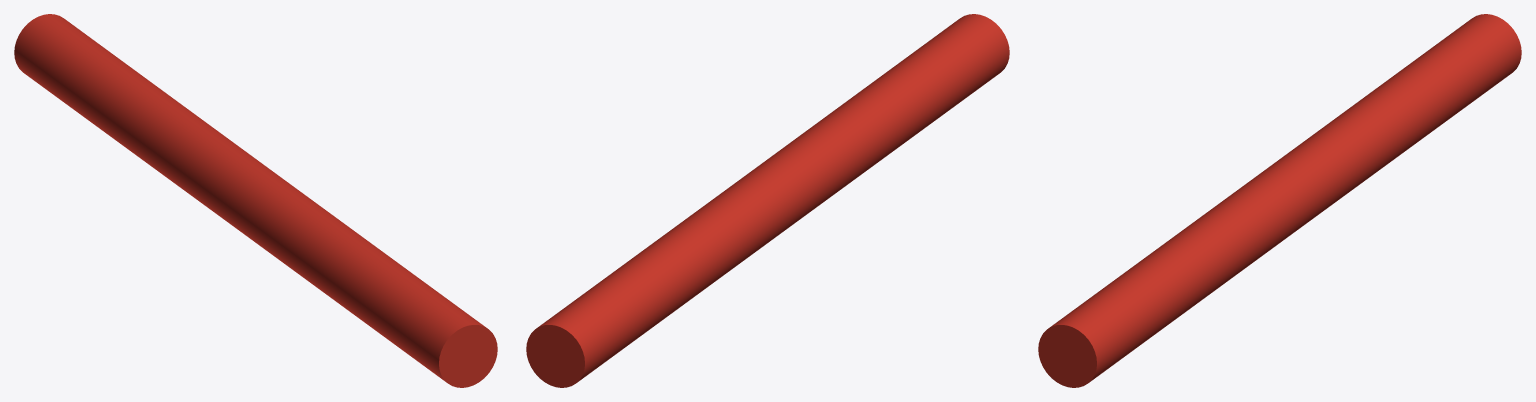
File: Bullet5.fbx
3 views of the same model, side by side, from view 1: azimuth 30°, elevation 25°; view 2: azimuth 150°, elevation 25°; view 3: azimuth 330°, elevation 25° (orthographic).
Parts seen in each view (by area): view 1: Body1; view 2: Body1; view 3: Body1.
Part boxes in pixels (x1,y1,x2,y2): Body1: (14, 14, 497, 387); Body1: (526, 14, 1009, 387); Body1: (1038, 14, 1521, 387).
Size of the model in its own units: 4 by 4 by 50.
